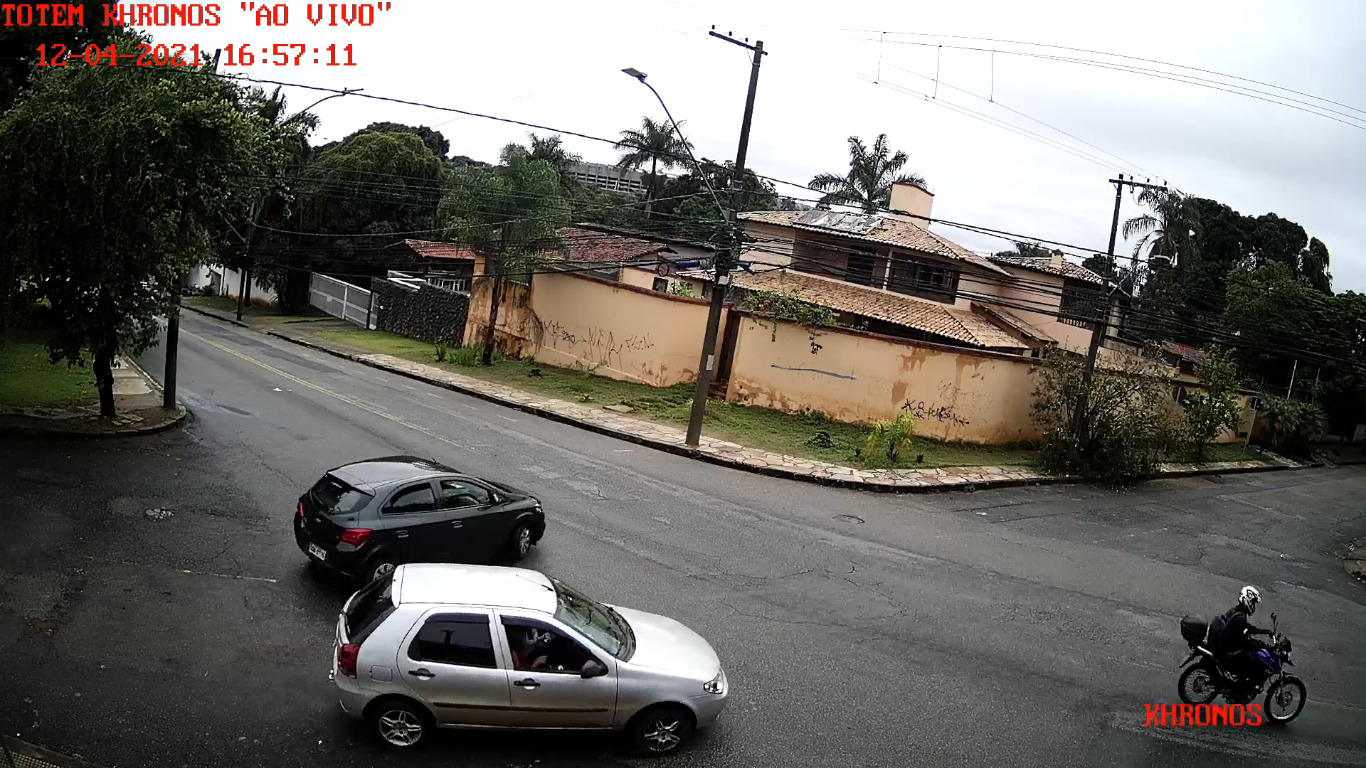car: (332, 564, 729, 768), (293, 455, 548, 581)
